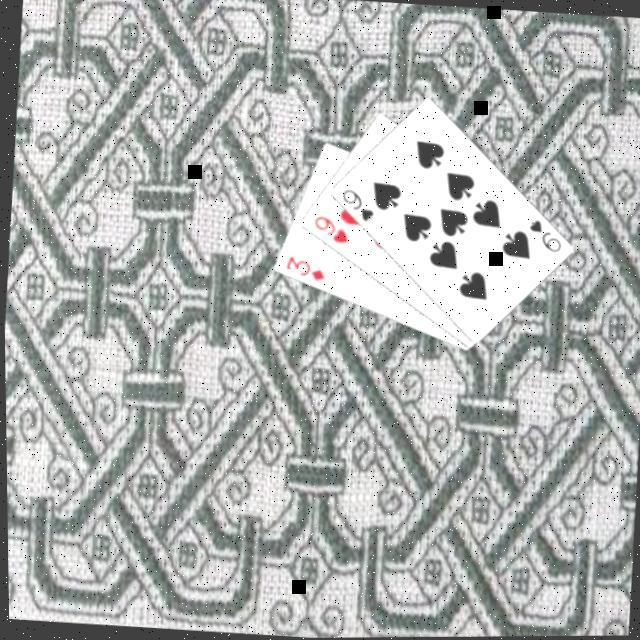3D: (280, 253, 328, 285)
9H: (309, 213, 351, 248)
9S: (523, 217, 566, 258), (336, 186, 377, 227)
